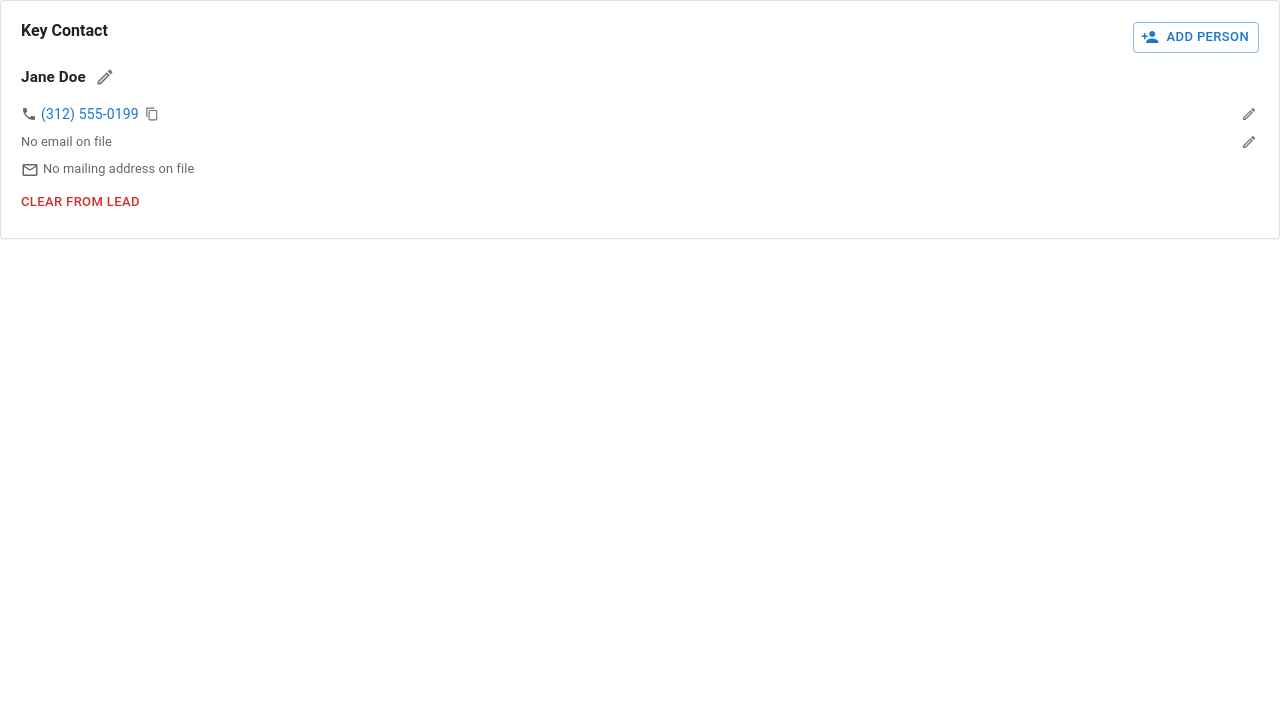
Test: KeyContactCard › clears a linked key contact from the lead
Step 1. Click the button with test id "key-contact-clear-owner-btn" → (80, 202), box [17, 187, 144, 218]
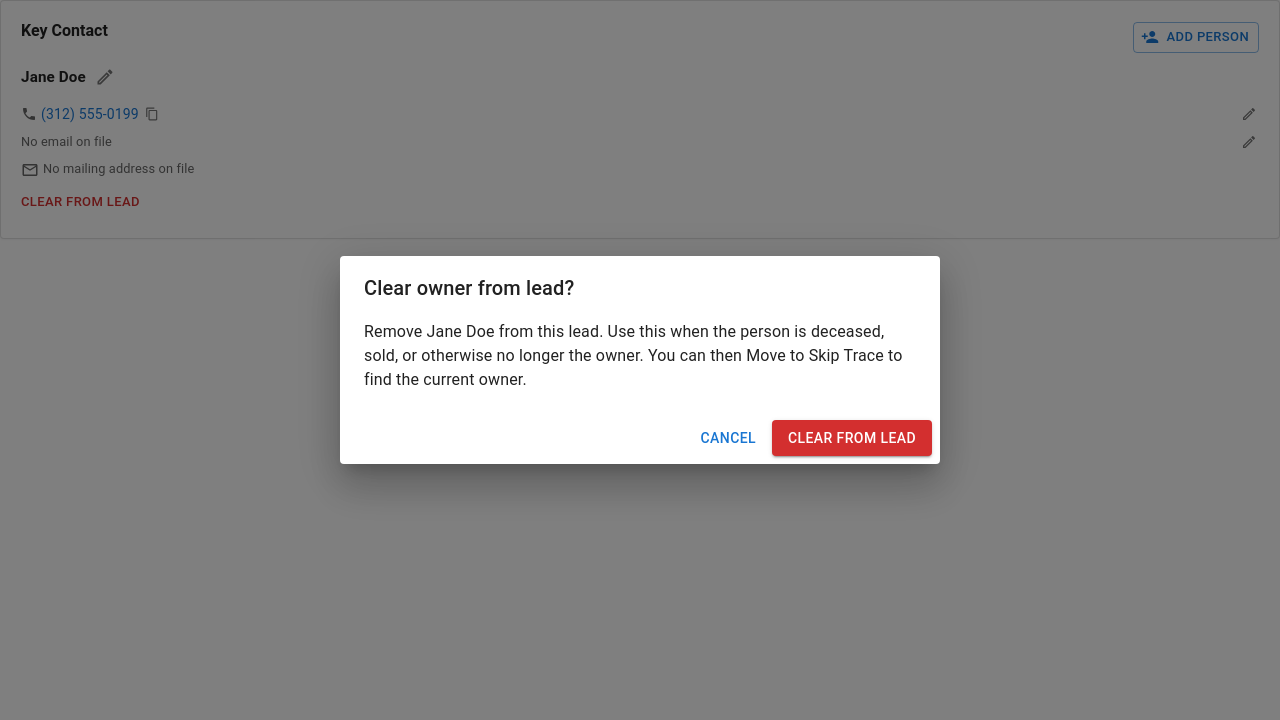
Expected: the dialog shows "Clear owner from lead?", [364, 276, 574, 300]
Step 2. Click the button with test id "confirm-key-contact-clear-owner-btn" → (852, 438), box [772, 420, 932, 456]
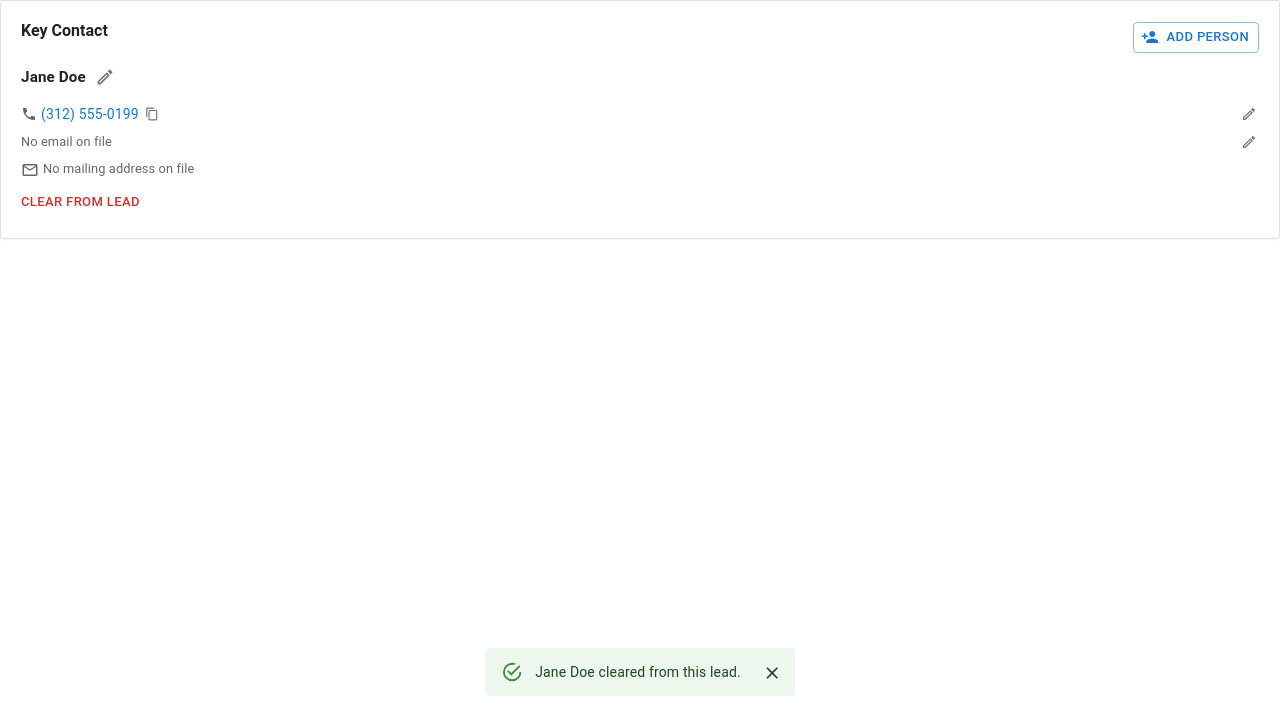
Expected: the text "Jane Doe cleared from this lead." is shown, [535, 664, 741, 680]
